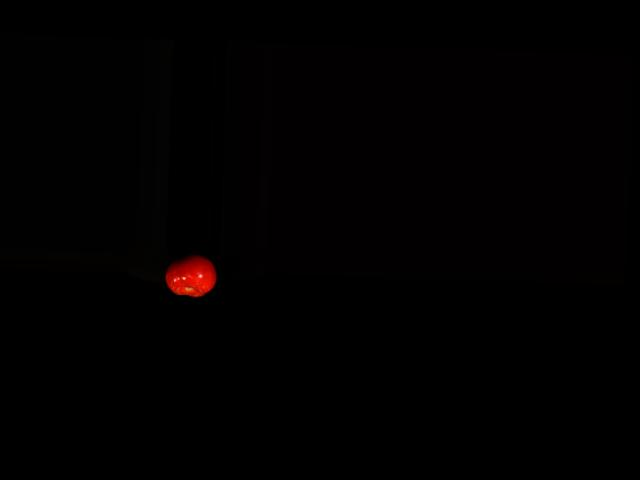tomato: (165, 253, 218, 297)
